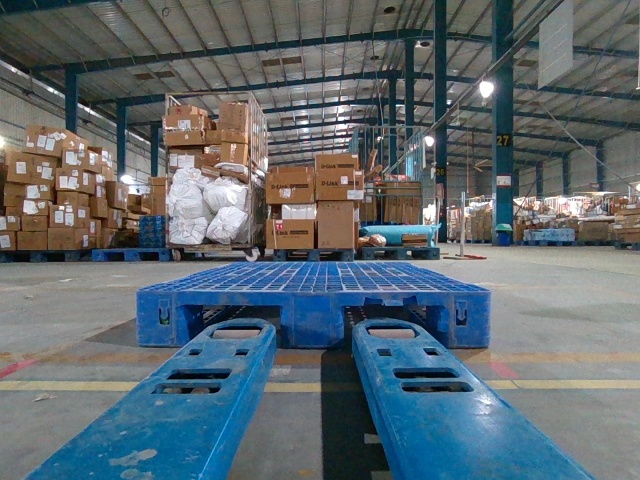block: (280, 287, 342, 348), (138, 287, 193, 347), (445, 289, 491, 349)
front: (137, 289, 491, 345)
hole pallet: (341, 293, 452, 349), (185, 293, 288, 343)
